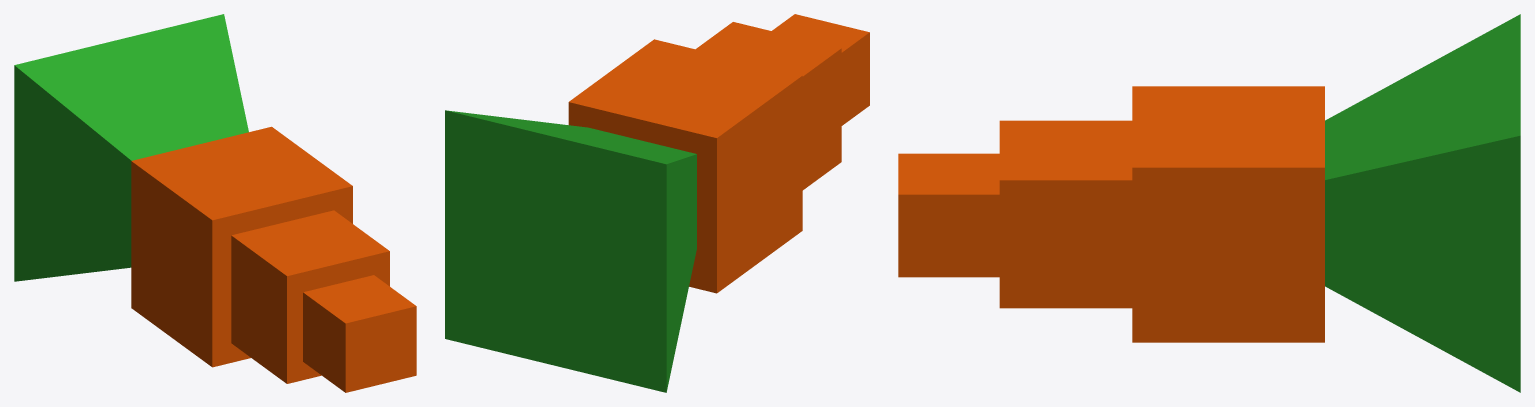
Rendered from Carotte.fbx.
3 views of the same model, side by side, from view 1: azimuth 30°, elevation 25°; view 2: azimuth 150°, elevation 25°; view 3: azimuth 270°, elevation 25° (orthographic). The views are drawn at different scales.
Parts seen in each view (by area): view 1: carotte:polySurface1, carotte:polySurface2; view 2: carotte:polySurface2, carotte:polySurface1; view 3: carotte:polySurface1, carotte:polySurface2.
Part boxes in pixels (bbox=[...]): carotte:polySurface1: bbox=[131, 126, 416, 392]; carotte:polySurface2: bbox=[14, 14, 248, 281]; carotte:polySurface2: bbox=[445, 110, 696, 392]; carotte:polySurface1: bbox=[568, 14, 869, 293]; carotte:polySurface1: bbox=[898, 86, 1324, 342]; carotte:polySurface2: bbox=[1325, 14, 1520, 392].
Size of the model in its own units: 1.49 by 1.47 by 3.23.
